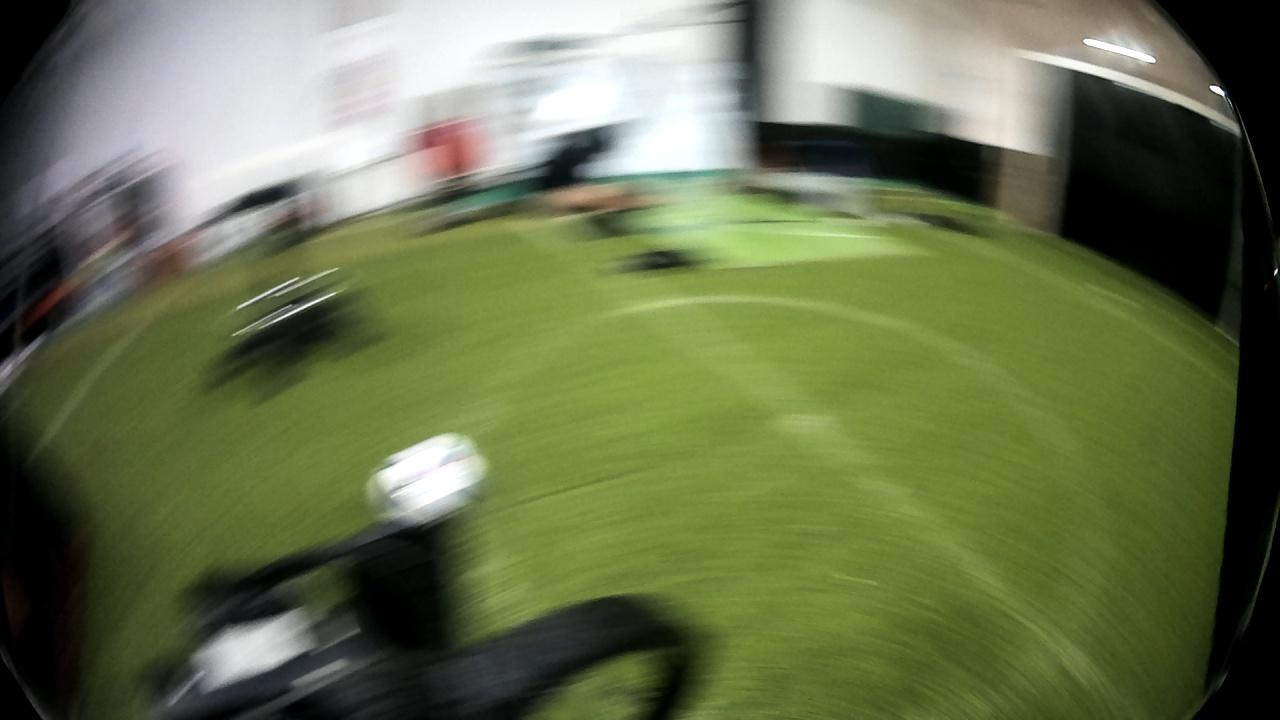ball: (366, 428, 498, 529)
